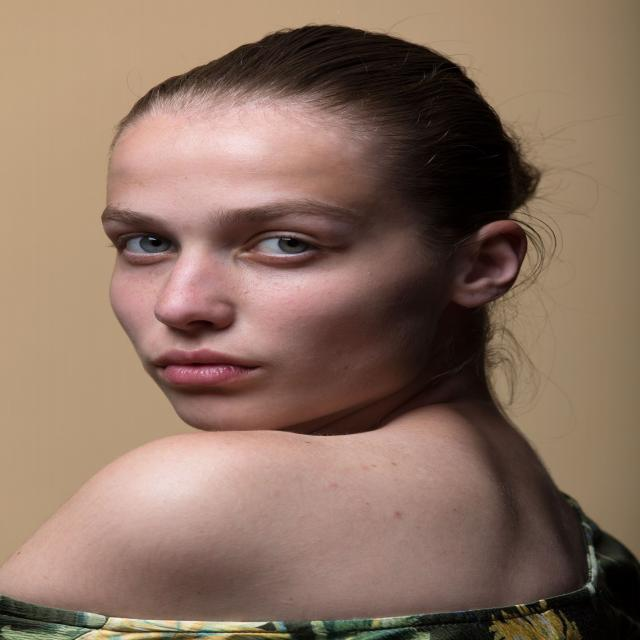earlobe: (452, 280, 487, 309)
eye: (240, 232, 326, 262), (115, 233, 181, 257)
nose: (153, 319, 235, 346)
wholeear: (452, 220, 528, 308)
